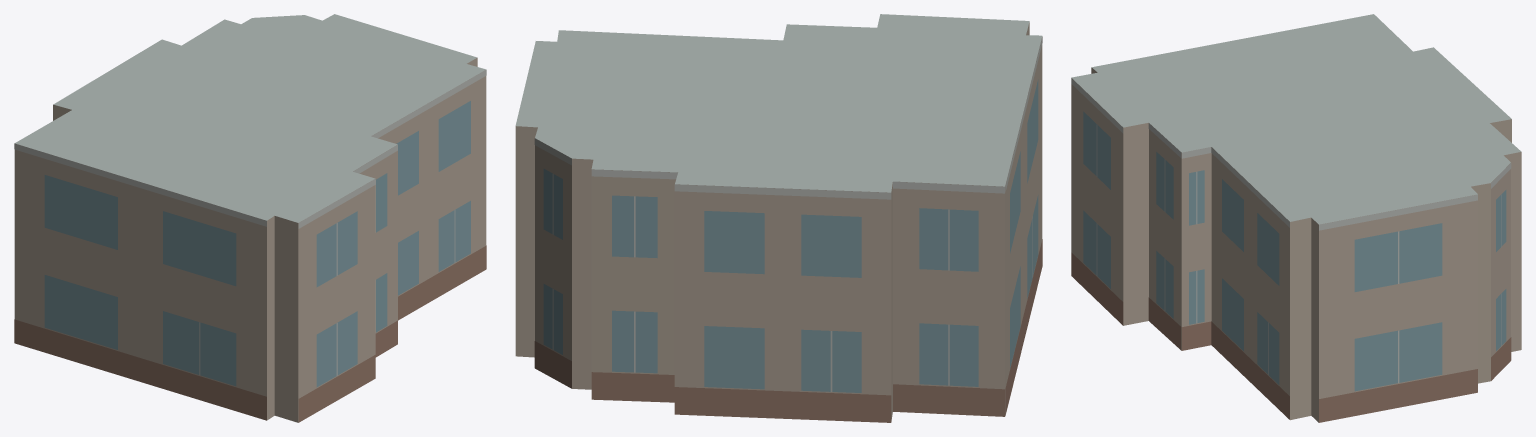
File: survey-upis-32828458.glb
3 renders of one model, left to right at view 1: azimuth 30°, elevation 25°; view 2: azimuth 150°, elevation 25°; view 3: azimuth 270°, elevation 25°, orthographic. The views are drawn at different scales.
Parts seen in each view (by area): view 1: survey-upis-32828458.tmp; view 2: survey-upis-32828458.tmp; view 3: survey-upis-32828458.tmp.
Part boxes in pixels (x1,y1,x2,y2): survey-upis-32828458.tmp: (14,14,486,422); survey-upis-32828458.tmp: (515,14,1042,422); survey-upis-32828458.tmp: (1071,14,1521,422).
Bounding box in the file's own units: 18.15 × 7.96 × 16.4.
